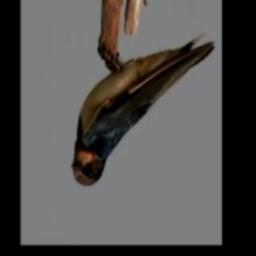Swallow: (72, 37, 215, 185)
